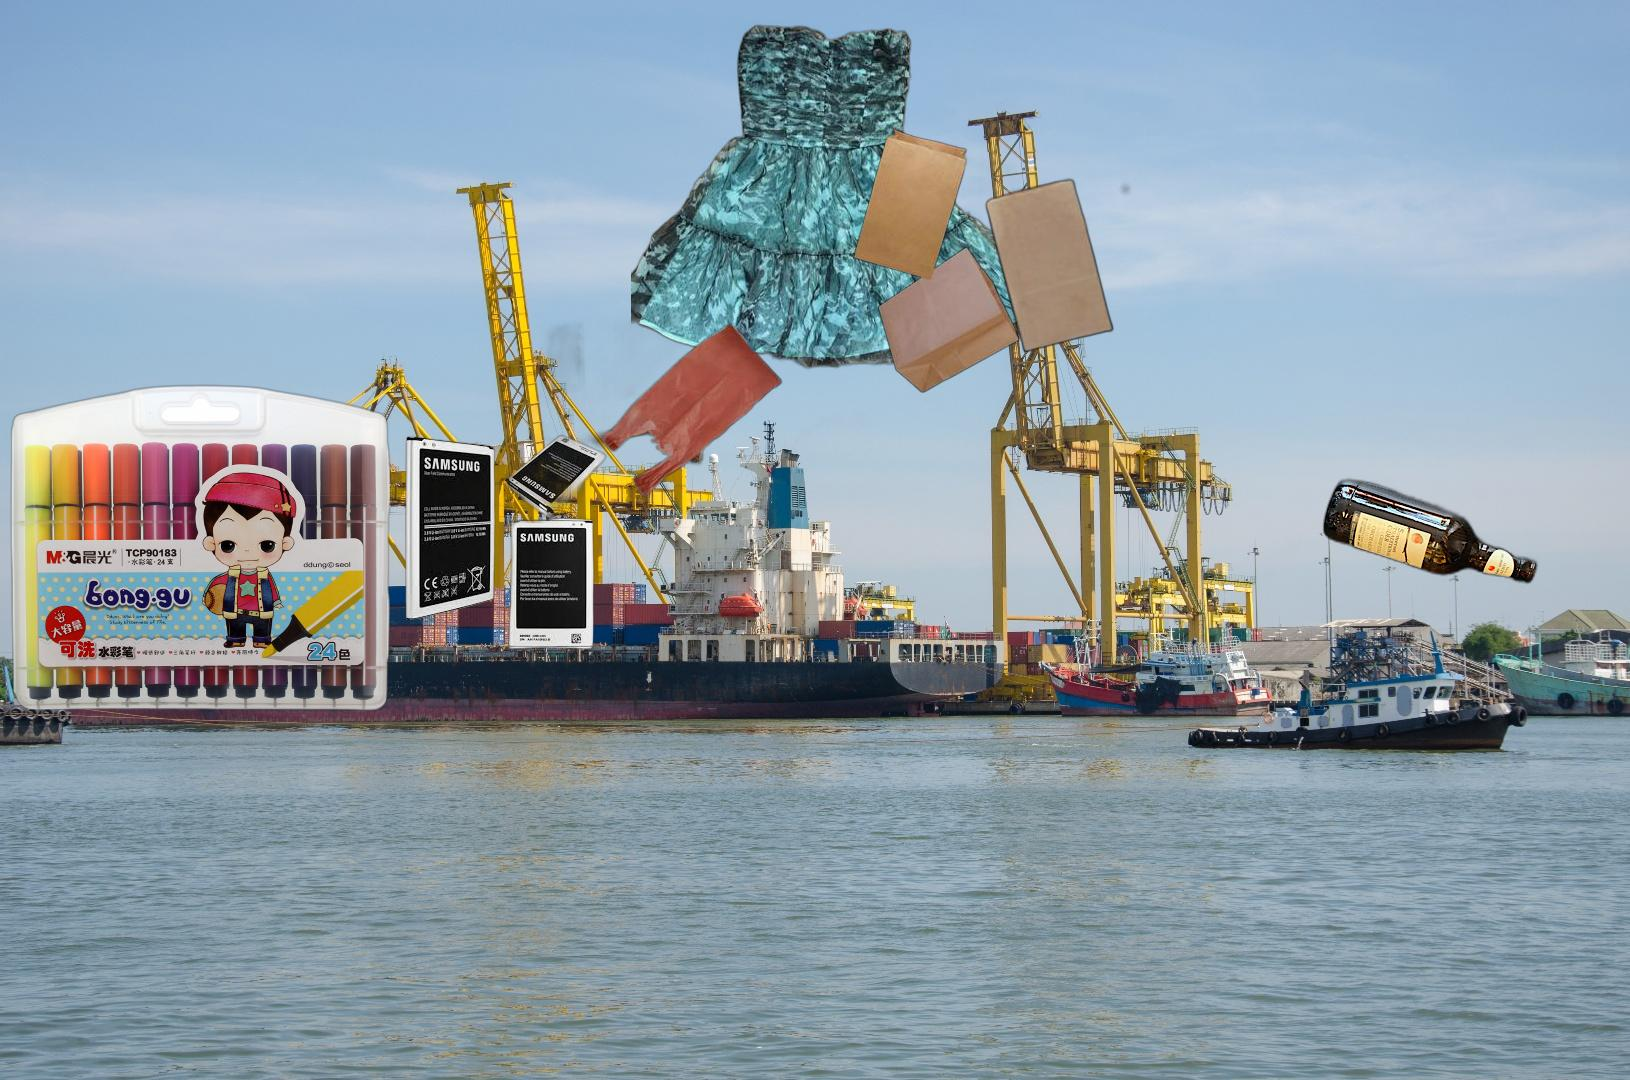battery: (404, 434, 610, 652)
clothes: (631, 20, 1031, 372)
glass: (1320, 472, 1541, 589)
paper-bag: (851, 123, 1123, 394)
penholder: (7, 382, 394, 714)
plastic-bag: (526, 298, 783, 498), (272, 452, 360, 554)
